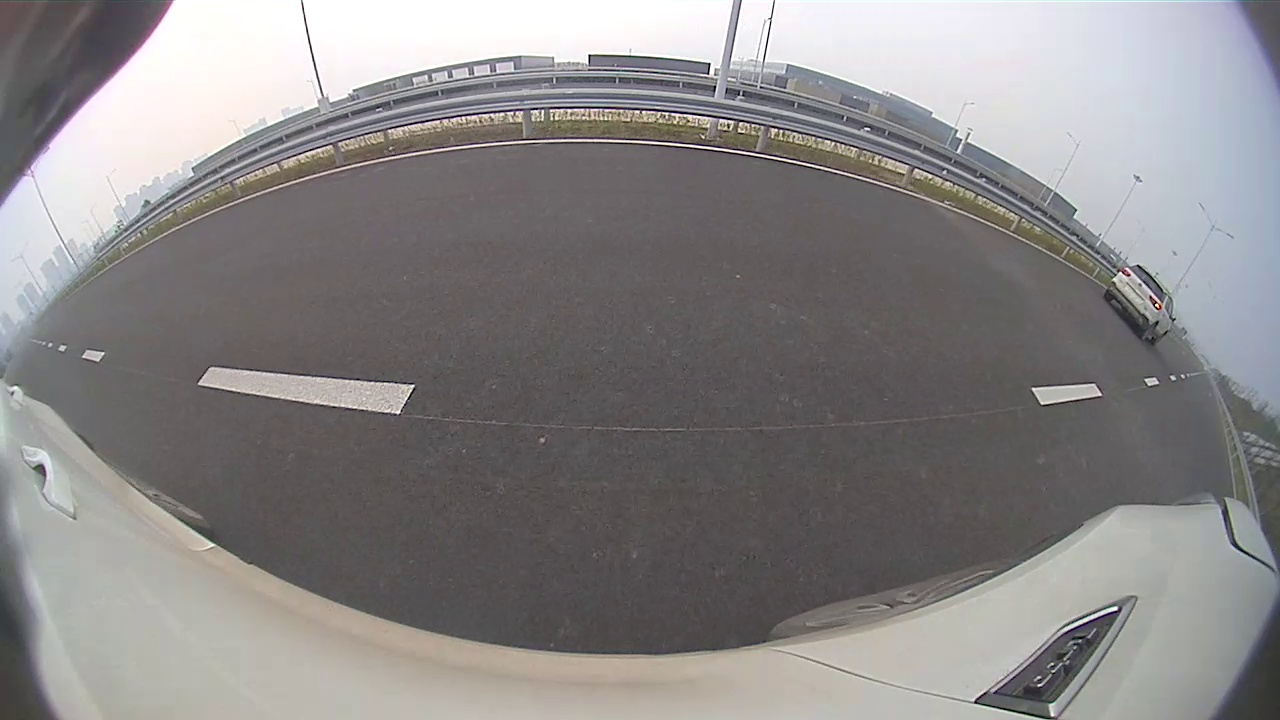car: (754, 83, 1206, 381)
front: (758, 183, 792, 244)
rear: (939, 241, 1060, 368)
